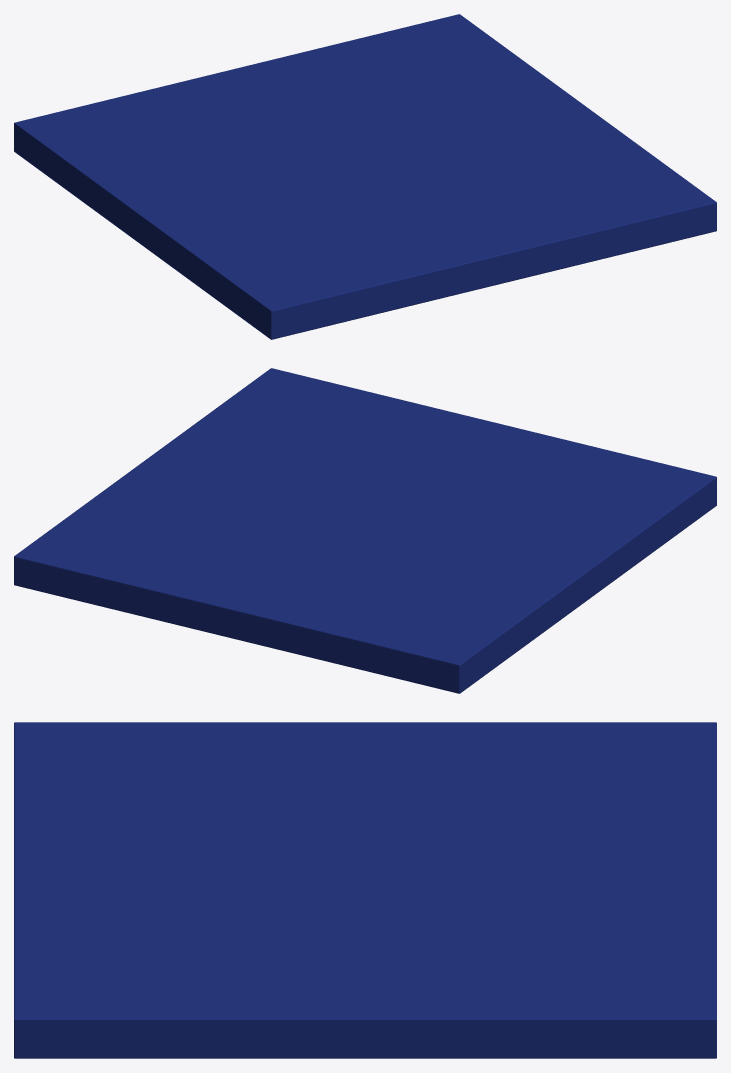
File: Floor.fbx
3 views of the same model, one above another, from view 1: azimuth 30°, elevation 25°; view 2: azimuth 150°, elevation 25°; view 3: azimuth 270°, elevation 25° (orthographic). The views are drawn at different scales.
Visible parts, largest first — view 1: Floor_High; view 2: Floor_High; view 3: Floor_High.
Boxes of the visible parts, x1,y1,x2,y2 form: Floor_High: [14, 14, 716, 339]; Floor_High: [14, 368, 716, 693]; Floor_High: [14, 722, 716, 1058].
Bounding box in the file's own units: 8 × 0.5 × 8.
